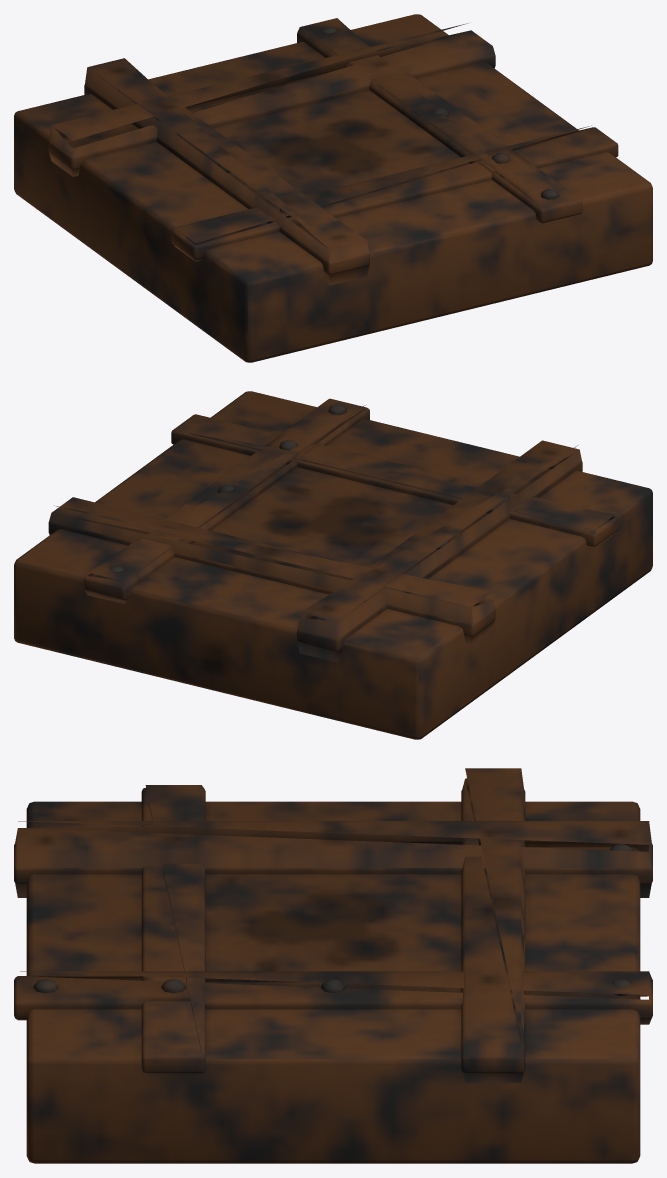
Rendered from gibbet_plate_bottom.obj.
3 views of the same model, one above another, from view 1: azimuth 30°, elevation 25°; view 2: azimuth 150°, elevation 25°; view 3: azimuth 270°, elevation 25° (orthographic). The views are drawn at different scales.
Parts seen in each view (by area): view 1: part0, part1; view 2: part0, part1; view 3: part0, part1.
Boxes of the visible parts, bbox=[...] form: part0: bbox=[14, 14, 652, 362]; part1: bbox=[108, 27, 559, 217]; part0: bbox=[14, 391, 652, 739]; part1: bbox=[110, 404, 559, 621]; part0: bbox=[14, 768, 652, 1163]; part1: bbox=[33, 844, 632, 996].
Size of the model in its own units: 1 by 0.2354 by 1.
